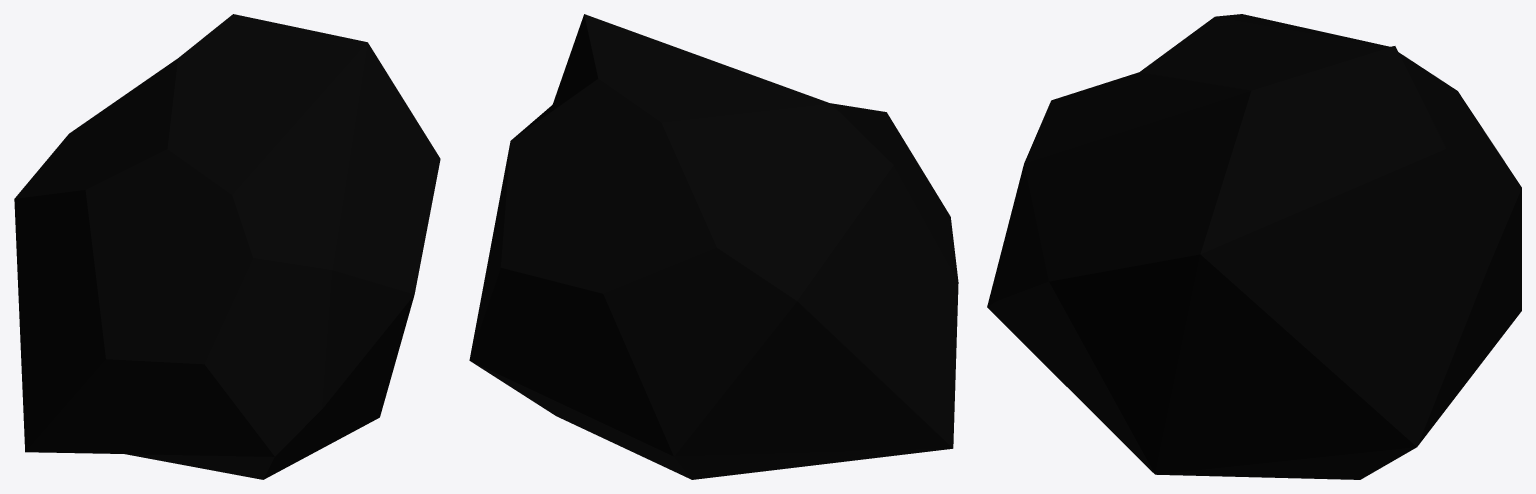
File: Copper Rock 02.fbx
The picture shows the model from 3 angles, left to right: view 1: azimuth 30°, elevation 25°; view 2: azimuth 150°, elevation 25°; view 3: azimuth 270°, elevation 25°; orthographic projection. The views are drawn at different scales.
Visible parts, largest first — view 1: Copper Rock 02; view 2: Copper Rock 02; view 3: Copper Rock 02.
Part boxes in pixels (box(x1,y1,x2,y2)): Copper Rock 02: box(14, 14, 440, 479); Copper Rock 02: box(469, 14, 958, 479); Copper Rock 02: box(987, 14, 1521, 479).
Size of the model in its own units: 153 by 125 by 151.
